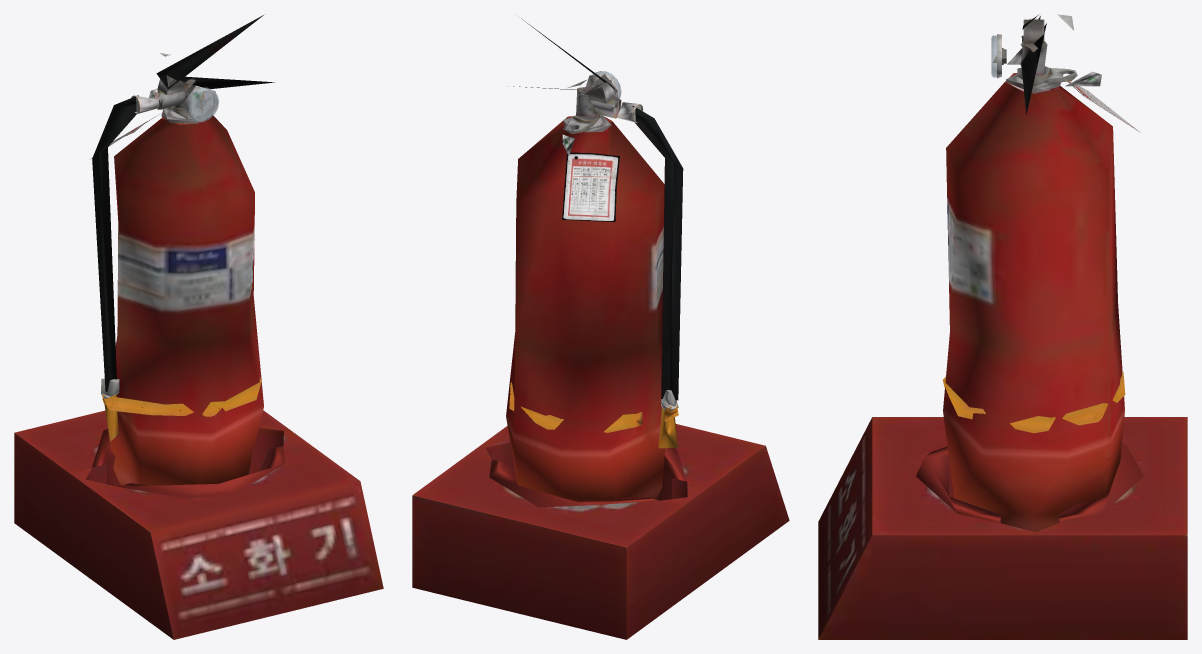
The model's file is extinguisher_lo.glb.
3 renders of one model, left to right at view 1: azimuth 30°, elevation 25°; view 2: azimuth 150°, elevation 25°; view 3: azimuth 270°, elevation 25°, orthographic. The views are drawn at different scales.
Visible parts, largest first — view 1: korean_fire_extinguisher_01; view 2: korean_fire_extinguisher_01; view 3: korean_fire_extinguisher_01.
Boxes of the visible parts, x1=… form: korean_fire_extinguisher_01: x1=14, y1=15, x2=383, y2=639; korean_fire_extinguisher_01: x1=412, y1=18, x2=789, y2=639; korean_fire_extinguisher_01: x1=818, y1=14, x2=1187, y2=639.
Bounding box in the file's own units: 0.279 × 0.6567 × 0.3675.
Materials: 3 (3 with a texture image).
